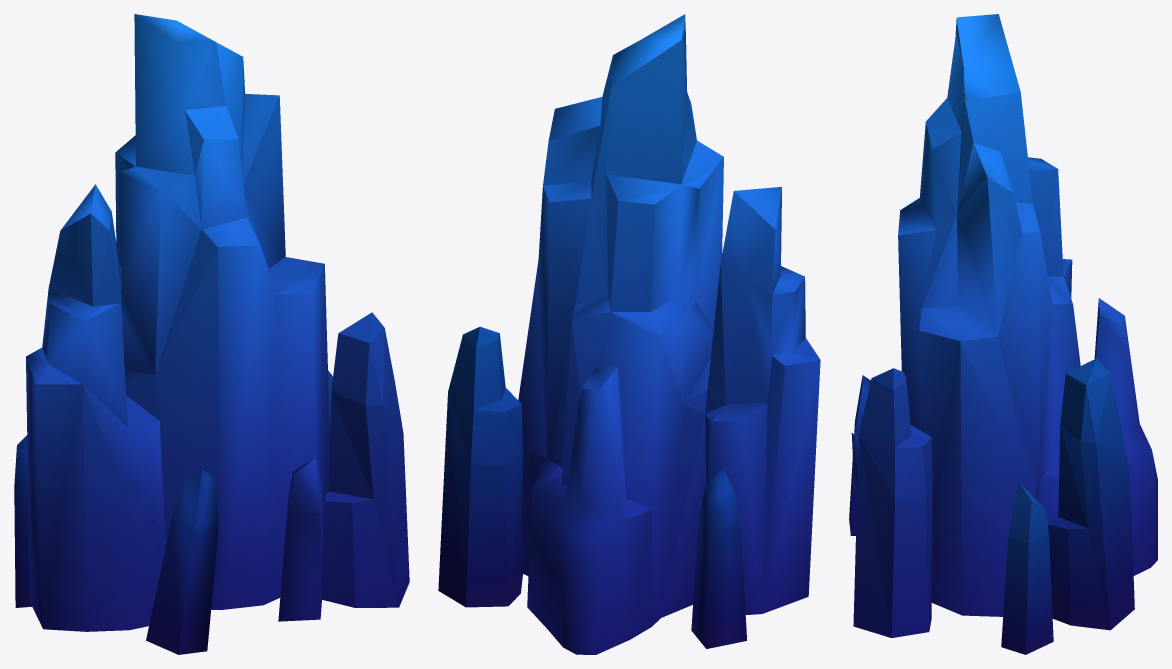
Rendered from ZLP_Crystalk_A_1.FBX.
3 renders of one model, left to right at view 1: azimuth 30°, elevation 25°; view 2: azimuth 150°, elevation 25°; view 3: azimuth 270°, elevation 25°, orthographic. The views are drawn at different scales.
Parts seen in each view (by area): view 1: ZLP_Crystalk_A_1; view 2: ZLP_Crystalk_A_1; view 3: ZLP_Crystalk_A_1.
Boxes of the visible parts, <box> form: ZLP_Crystalk_A_1: <box>14,14,409,654</box>; ZLP_Crystalk_A_1: <box>438,14,820,654</box>; ZLP_Crystalk_A_1: <box>849,14,1157,654</box>.
Size of the model in its own units: 245 by 390 by 201.
